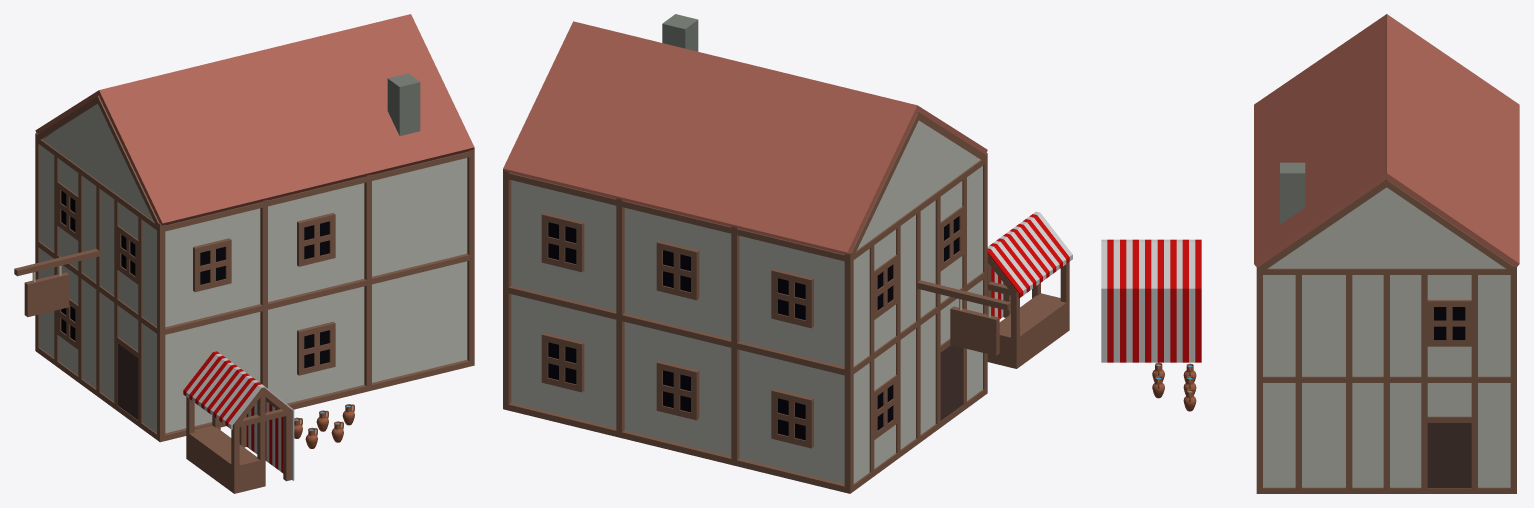
The model's file is timberframedpotter_red_white.obj.
3 renders of one model, left to right at view 1: azimuth 30°, elevation 25°; view 2: azimuth 150°, elevation 25°; view 3: azimuth 270°, elevation 25°, orthographic. The views are drawn at different scales.
Parts seen in each view (by area): view 1: Cube.005, Cube.007_Cube.011, Cube.011_Cube.015, Cube.018_Cube.016, Cube.026_Cube.019, Cube.006_Cube.010, Cube.001_Cube.058, Cube.056_Cube.081, Cube.013_Cube.080, Cube.055_Cube.059, Cube.147_Cube.153, Cube.010_Cube.053 (+24 smaller); view 2: Cube.005, Cube.007_Cube.011, Cube.023_Cube.026, Cube.022_Cube.025, Cube.021_Cube.024, Cube.028, Cube.019_Cube.022, Cube.017_Cube.021, Cube.014_Cube.018, Cube.008, Cube.015_Cube.020, Cube.020_Cube.023 (+23 smaller); view 3: Cube.005, Cube.007_Cube.011, Cube.147_Cube.153, Cube.003, Cube.033, Cube.016_Cube.013, Cube.031, Cube.032, Cube.012_Cube.017, Cube.027, Cube.046_Cube.048, Cube.034 (+6 smaller).
Part boxes in pixels (x1,y1,x2,y2): Cube.005: [39, 104, 467, 433]; Cube.007_Cube.011: [35, 14, 474, 225]; Cube.011_Cube.015: [161, 253, 473, 335]; Cube.018_Cube.016: [161, 151, 473, 231]; Cube.026_Cube.019: [157, 223, 165, 442]; Cube.006_Cube.010: [387, 73, 420, 135]; Cube.001_Cube.058: [297, 321, 335, 375]; Cube.056_Cube.081: [193, 238, 231, 292]; Cube.013_Cube.080: [297, 213, 335, 266]; Cube.055_Cube.059: [161, 360, 473, 441]; Cube.147_Cube.153: [246, 401, 294, 480]; Cube.010_Cube.053: [364, 174, 371, 391]; Cube.005: [511, 120, 982, 483]; Cube.007_Cube.011: [503, 21, 987, 254]; Cube.023_Cube.026: [508, 403, 848, 492]; Cube.022_Cube.025: [508, 286, 848, 375]; Cube.021_Cube.024: [504, 172, 844, 261]; Cube.028: [844, 251, 853, 493]; Cube.019_Cube.022: [656, 361, 699, 420]; Cube.017_Cube.021: [541, 333, 584, 392]; Cube.014_Cube.018: [656, 241, 699, 300]; Cube.008: [541, 213, 584, 272]; Cube.015_Cube.020: [771, 269, 813, 328]; Cube.020_Cube.023: [771, 389, 813, 448]; Cube.005: [1263, 187, 1510, 487]; Cube.007_Cube.011: [1254, 14, 1519, 266]; Cube.147_Cube.153: [1101, 288, 1201, 362]; Cube.003: [1427, 423, 1471, 487]; Cube.033: [1427, 300, 1471, 346]; Cube.016_Cube.013: [1261, 376, 1511, 382]; Cube.031: [1261, 487, 1512, 493]; Cube.032: [1261, 268, 1512, 274]; Cube.012_Cube.017: [1256, 265, 1262, 493]; Cube.027: [1510, 265, 1516, 493]; Cube.046_Cube.048: [1346, 268, 1352, 490]; Cube.034: [1383, 268, 1389, 490].
Bounding box in the file's own units: 15.3 × 11.25 × 13.34.
